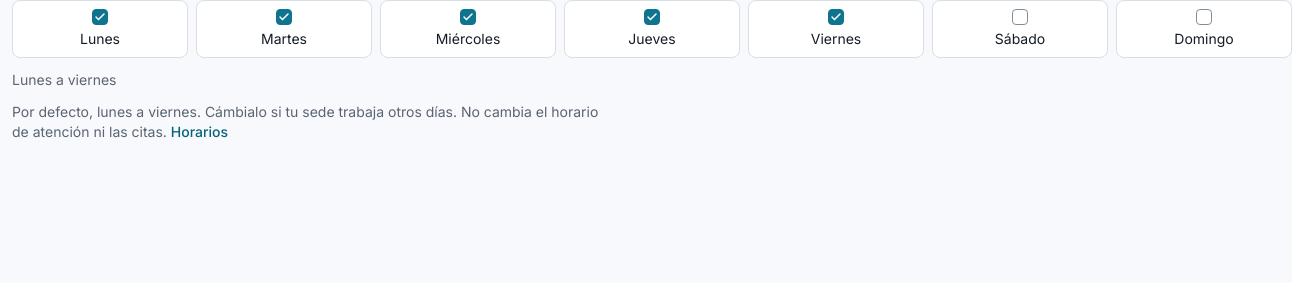
Scenario: WorkingWeekdaysForm (DX-316, spec §7.2) › after a failed keyboard save focus returns to «Guardar días hábiles» with the error linked
The width and height of the screenshot is (1292, 283).
Click the checkbox labelled "Sábado": coordinates (1020, 17) [1012, 9, 1028, 25]
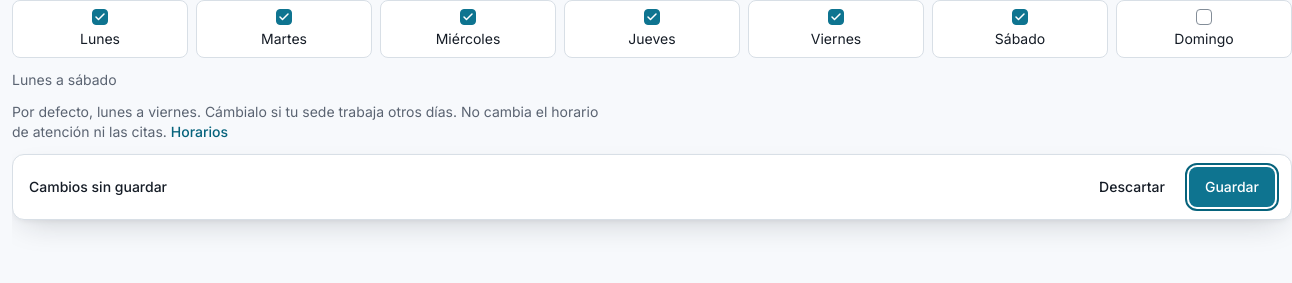
Press Enter
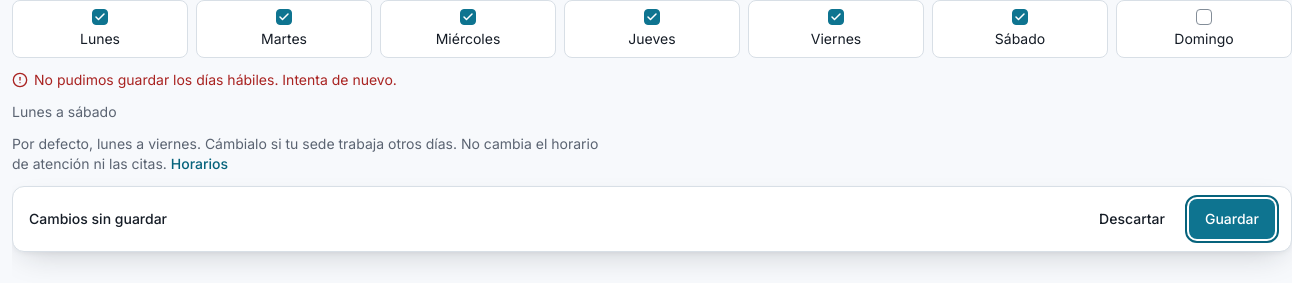
Check: the message reads "No pudimos guardar los días hábiles. Intenta de nuevo.", box [34, 71, 397, 88]
